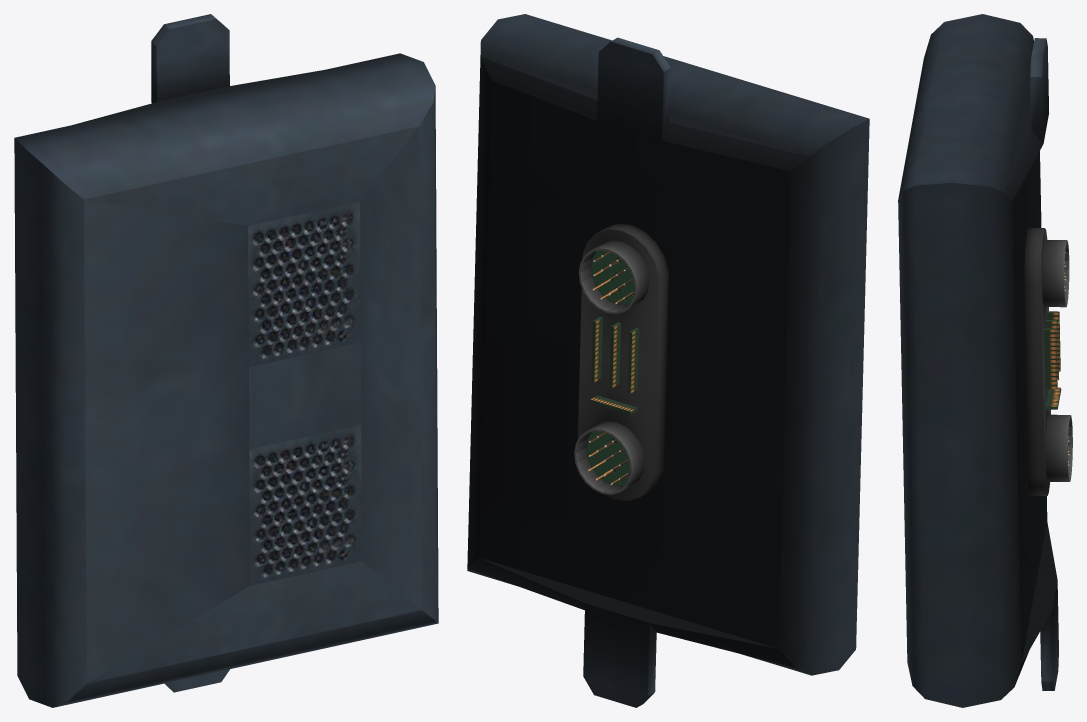
Rendered from sensors_005.dae.
3 renders of one model, left to right at view 1: azimuth 30°, elevation 25°; view 2: azimuth 150°, elevation 25°; view 3: azimuth 270°, elevation 25°, orthographic. The views are drawn at different scales.
Visible parts, largest first — view 1: sensor; view 2: sensor, connector, multiConnectorMale1, multiConnectorMale2, cardConnector1, cardConnector2, cardConnector3; view 3: sensor, connector, multiConnectorMale2, multiConnectorMale1, cardConnector1.
Part boxes in pixels (x1,y1,x2,y2): sensor: (14,14,438,707); sensor: (467,14,869,707); connector: (577,223,668,500); multiConnectorMale1: (578,240,649,314); multiConnectorMale2: (574,421,644,494); cardConnector1: (591,316,602,382); cardConnector2: (609,322,620,387); cardConnector3: (627,328,639,393); sensor: (898,14,1058,707); connector: (1024,228,1050,495); multiConnectorMale2: (1045,414,1072,481); multiConnectorMale1: (1042,239,1069,307); cardConnector1: (1044,328,1057,388).
Size of the model in its own units: 0.076 by 0.1249 by 0.0315.
Materials: 2 (2 with a texture image).
